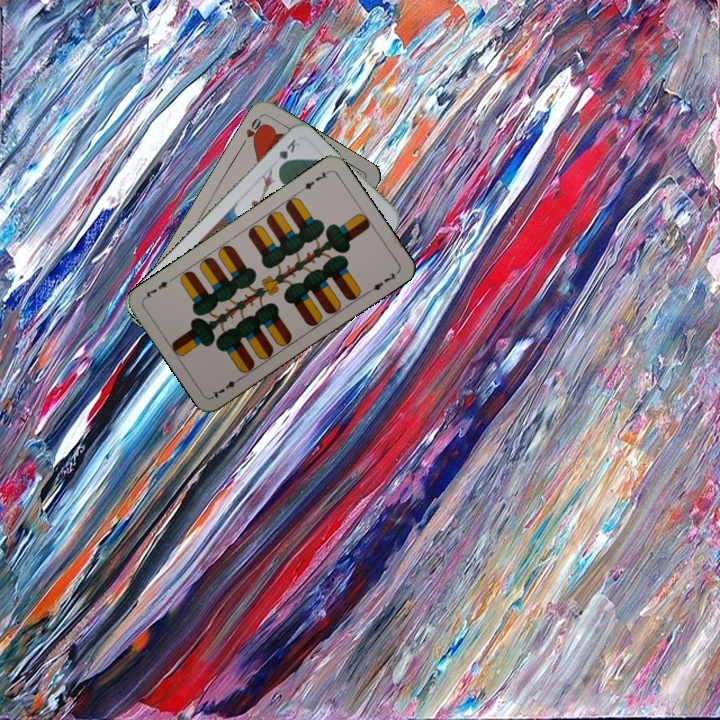E7: (296, 166, 332, 195), (209, 373, 245, 401)
GK: (273, 135, 303, 171)
HO: (237, 112, 267, 149)
